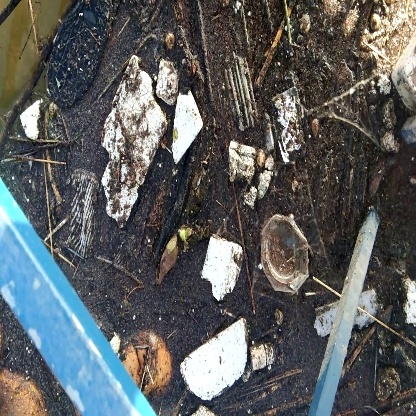plastic-garbage: (93, 59, 171, 229)
